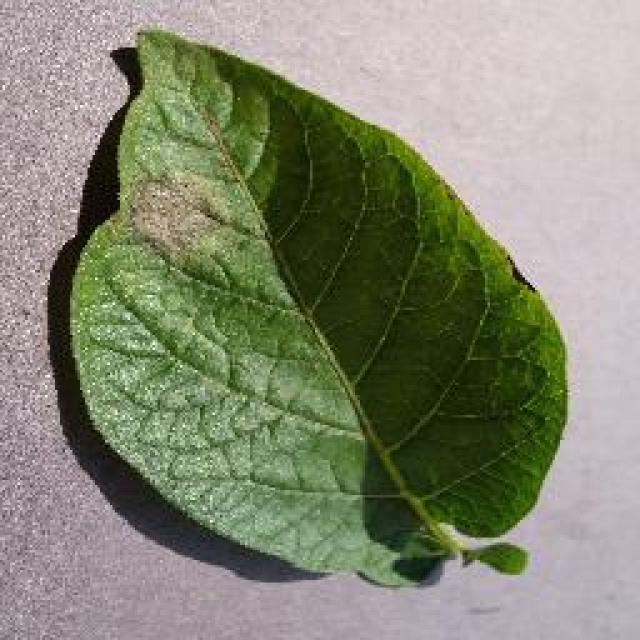Potato: (65, 22, 570, 588)
